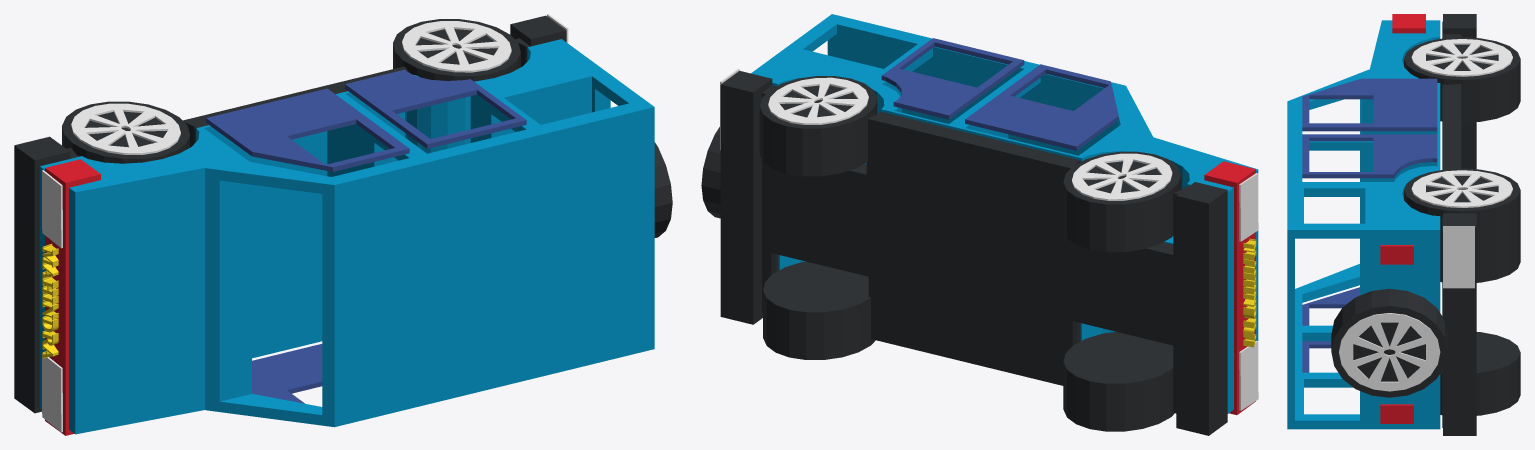
Rendered from tinker.obj.
3 renders of one model, left to right at view 1: azimuth 30°, elevation 25°; view 2: azimuth 150°, elevation 25°; view 3: azimuth 270°, elevation 25°, orthographic. The views are drawn at different scales.
Visible parts, largest first — view 1: group_0_40919, group_0_2829873, group_0_3888547, group_0_16448250, group_0_15277357, group_0_16768282; view 2: group_0_2829873, group_0_40919, group_0_3888547, group_0_16448250, group_0_15277357, group_0_16768282; view 3: group_0_2829873, group_0_40919, group_0_16448250, group_0_3888547, group_0_15277357.
Part boxes in pixels (x1,y1,x2,y2): group_0_40919: (39, 39, 654, 434); group_0_2829873: (14, 15, 672, 413); group_0_3888547: (206, 69, 526, 403); group_0_16448250: (42, 14, 568, 432); group_0_15277357: (45, 159, 100, 435); group_0_16768282: (42, 243, 58, 358); group_0_2829873: (701, 71, 1227, 435); group_0_40919: (751, 14, 1258, 413); group_0_3888547: (881, 38, 1118, 150); group_0_16448250: (720, 68, 1258, 410); group_0_15277357: (1204, 161, 1255, 414); group_0_16768282: (1243, 238, 1256, 347); group_0_2829873: (1331, 14, 1520, 435); group_0_40919: (1287, 20, 1440, 429); group_0_16448250: (1339, 39, 1512, 391); group_0_3888547: (1302, 78, 1437, 372); group_0_15277357: (1380, 14, 1425, 423).
Bounding box in the file's own units: 327 × 139 × 138.
